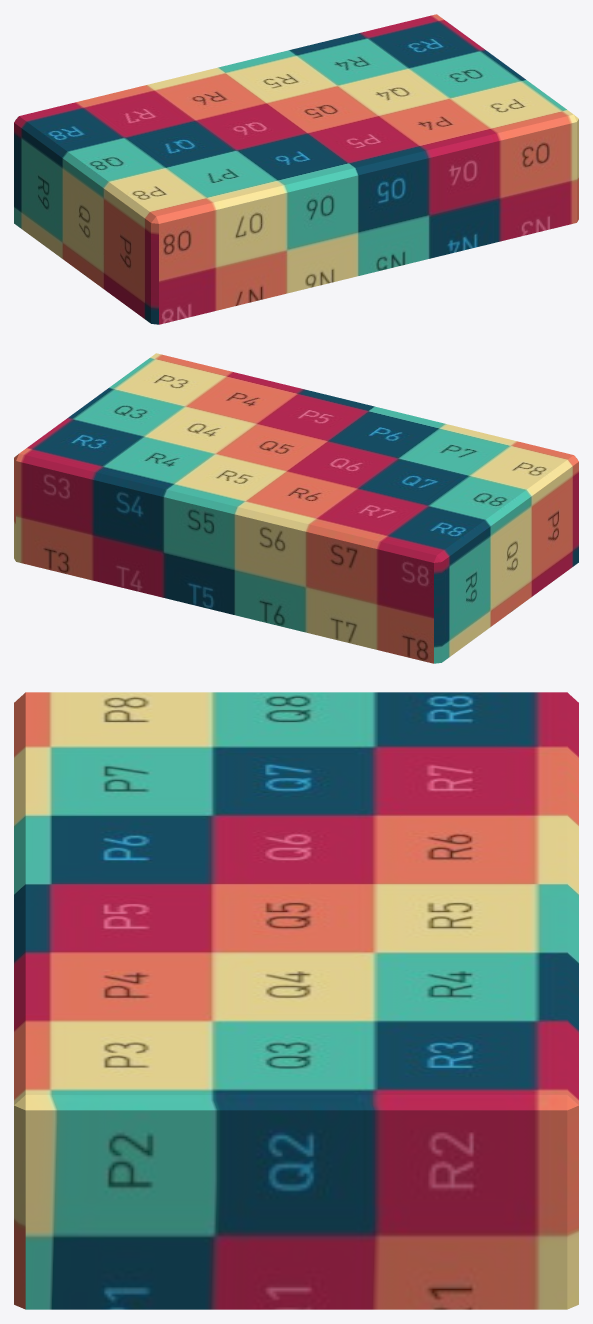
File: bgame_1.fbx
The picture shows the model from 3 angles, top to bottom: view 1: azimuth 30°, elevation 25°; view 2: azimuth 150°, elevation 25°; view 3: azimuth 270°, elevation 25°; orthographic projection. The views are drawn at different scales.
Parts seen in each view (by area): view 1: bored_game2; view 2: bored_game2; view 3: bored_game2.
Part boxes in pixels (bbox=[...]): bored_game2: bbox=[14, 14, 578, 324]; bored_game2: bbox=[14, 353, 578, 663]; bored_game2: bbox=[14, 692, 578, 1309].
Size of the model in its own units: 32.1 by 7.61 by 18.59.
